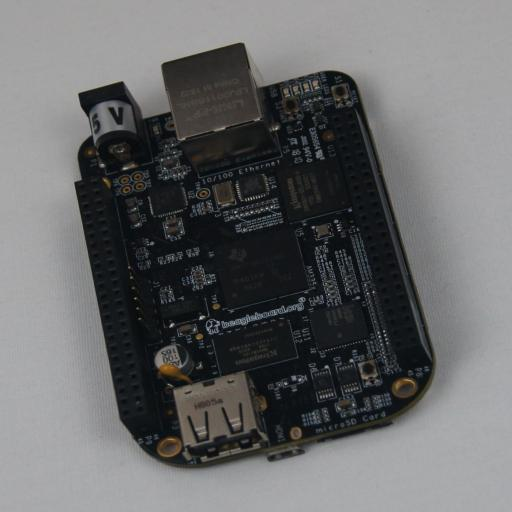Beaglebone Black: (74, 42, 436, 469)
